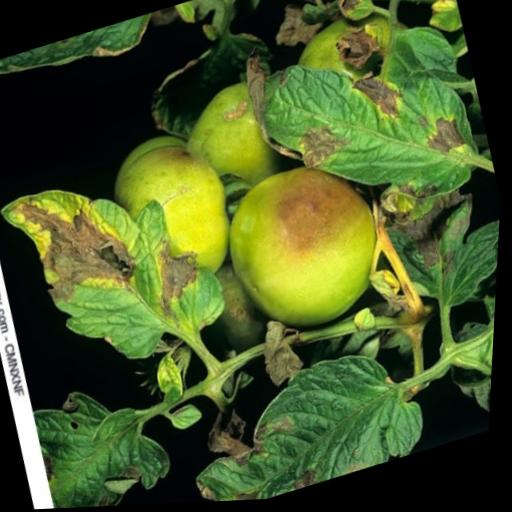Late Blight: (231, 0, 496, 252), (0, 143, 244, 393), (177, 336, 440, 505)
